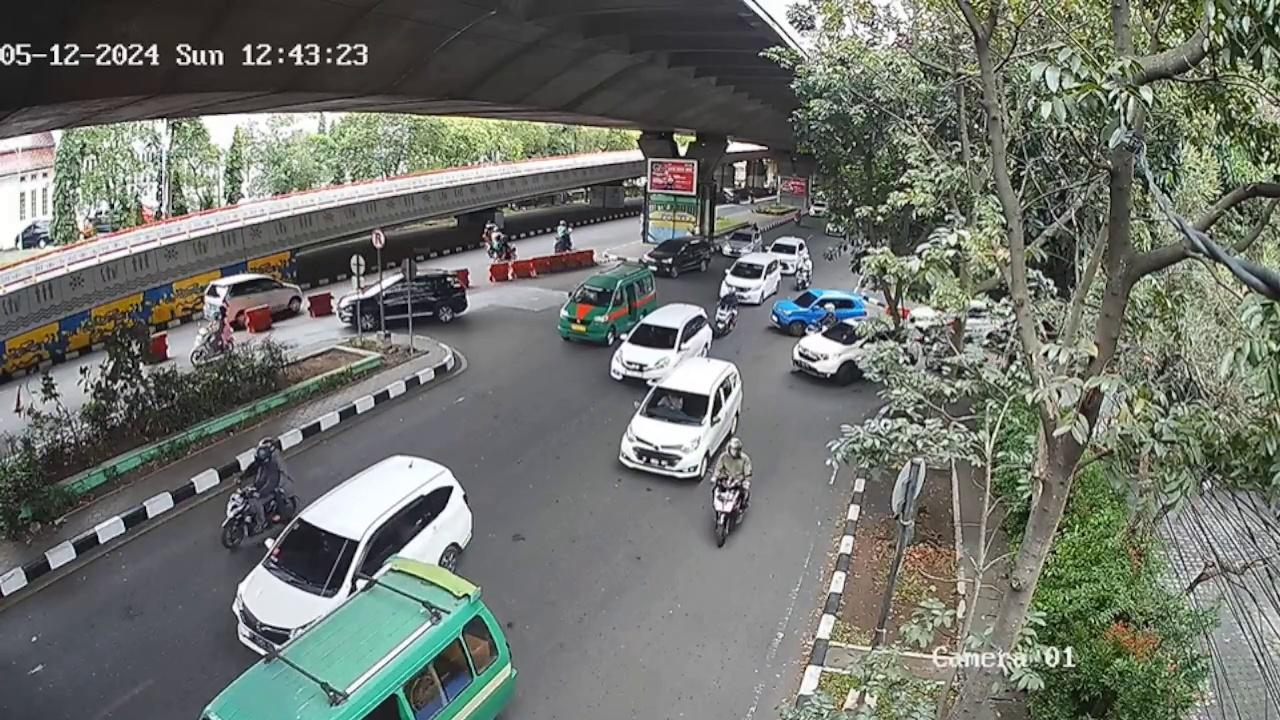pakai: (660, 392, 686, 414)
windshield: (264, 516, 356, 583), (642, 386, 706, 424), (624, 318, 680, 354), (568, 279, 618, 314)
